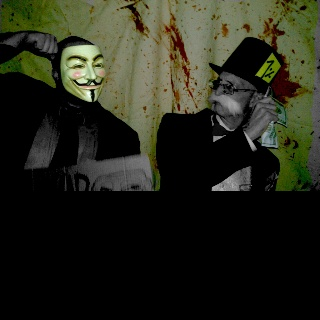without_mask: (60, 45, 105, 102), (208, 71, 257, 118)
